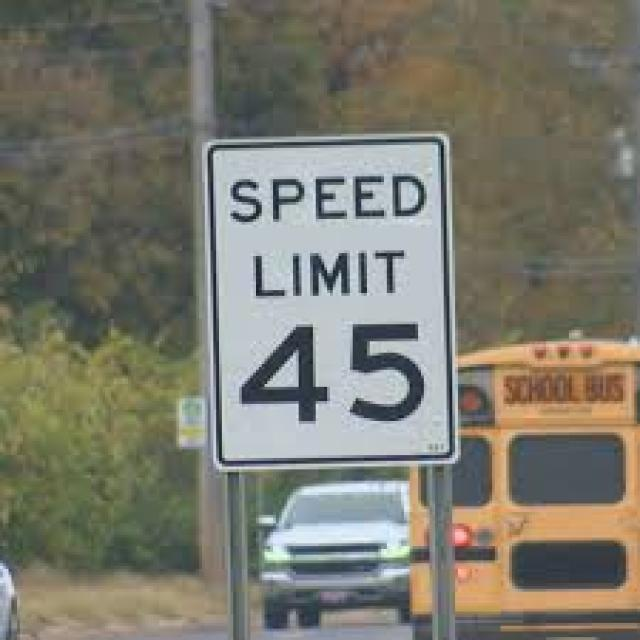speedLimit45: (192, 127, 465, 465)
